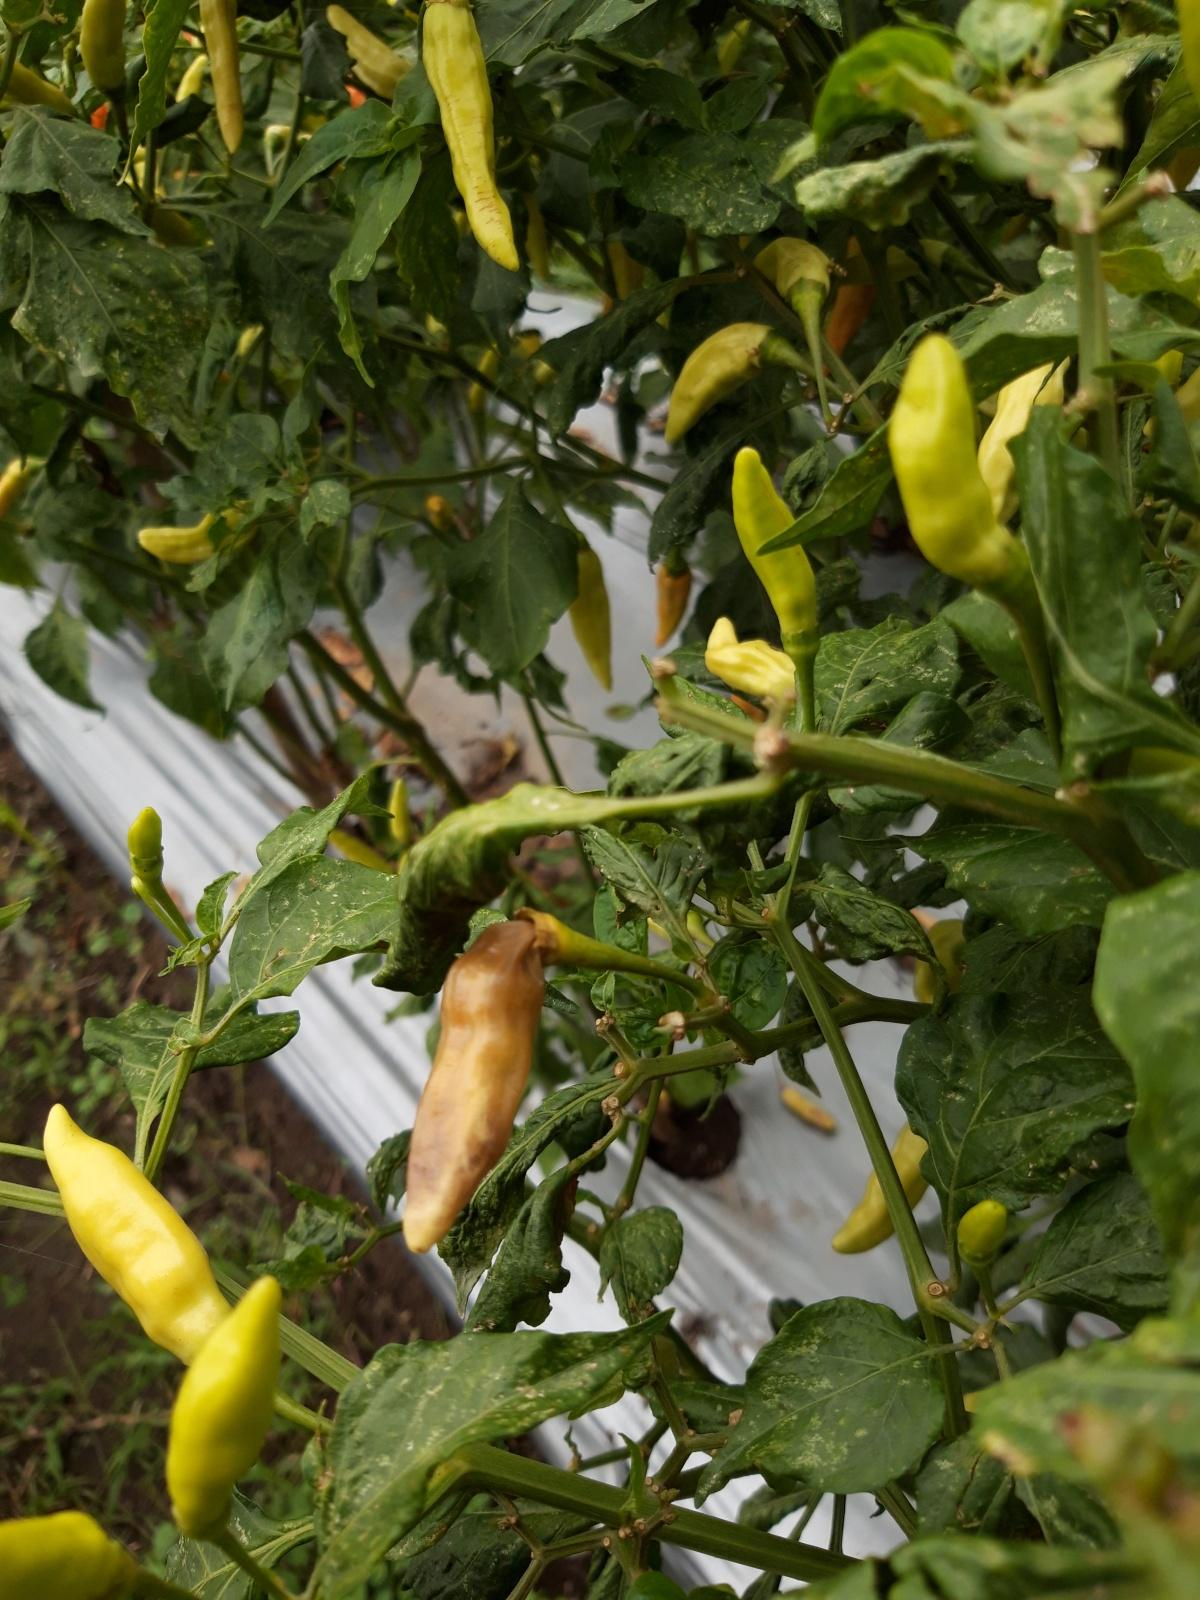cabai_normal: (42, 1102, 234, 1367), (887, 335, 1039, 619), (164, 1274, 281, 1521), (418, 3, 524, 272), (729, 446, 819, 656), (832, 1094, 942, 1257), (663, 319, 783, 438), (194, 3, 246, 152), (135, 504, 253, 567), (563, 551, 614, 690), (650, 562, 692, 648), (955, 1199, 1008, 1264), (129, 808, 164, 864)
lalat_buah: (400, 915, 545, 1254)
